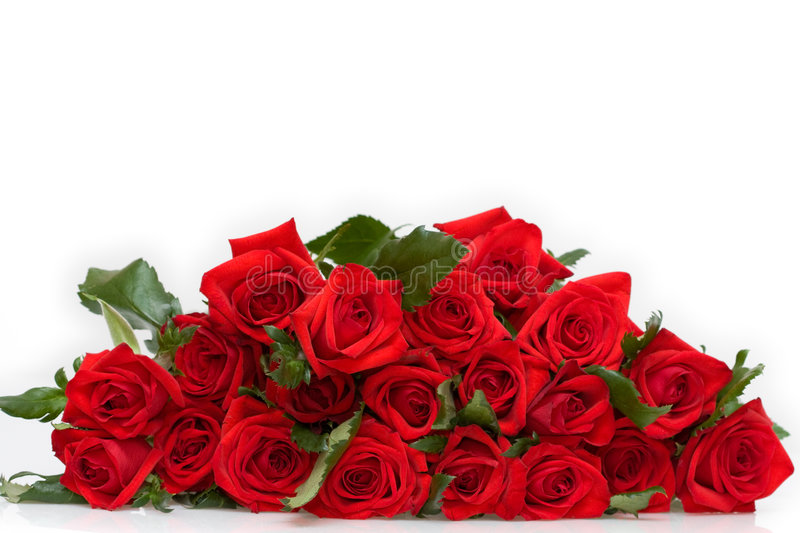RedRose: (518, 264, 638, 369), (441, 204, 558, 310), (202, 216, 308, 322), (298, 259, 401, 367), (163, 310, 273, 395), (58, 349, 172, 431), (231, 408, 317, 510), (639, 334, 716, 441), (699, 406, 776, 505), (440, 428, 519, 524), (527, 380, 623, 458), (333, 439, 432, 514), (57, 436, 157, 505), (467, 357, 551, 427), (427, 281, 496, 365), (167, 389, 219, 495), (375, 369, 452, 436), (623, 435, 683, 512), (550, 457, 619, 514), (290, 364, 364, 410)
